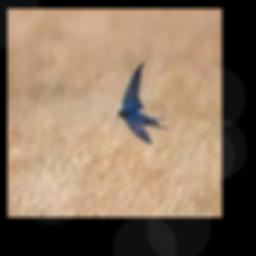Swallow: (117, 61, 168, 142)
